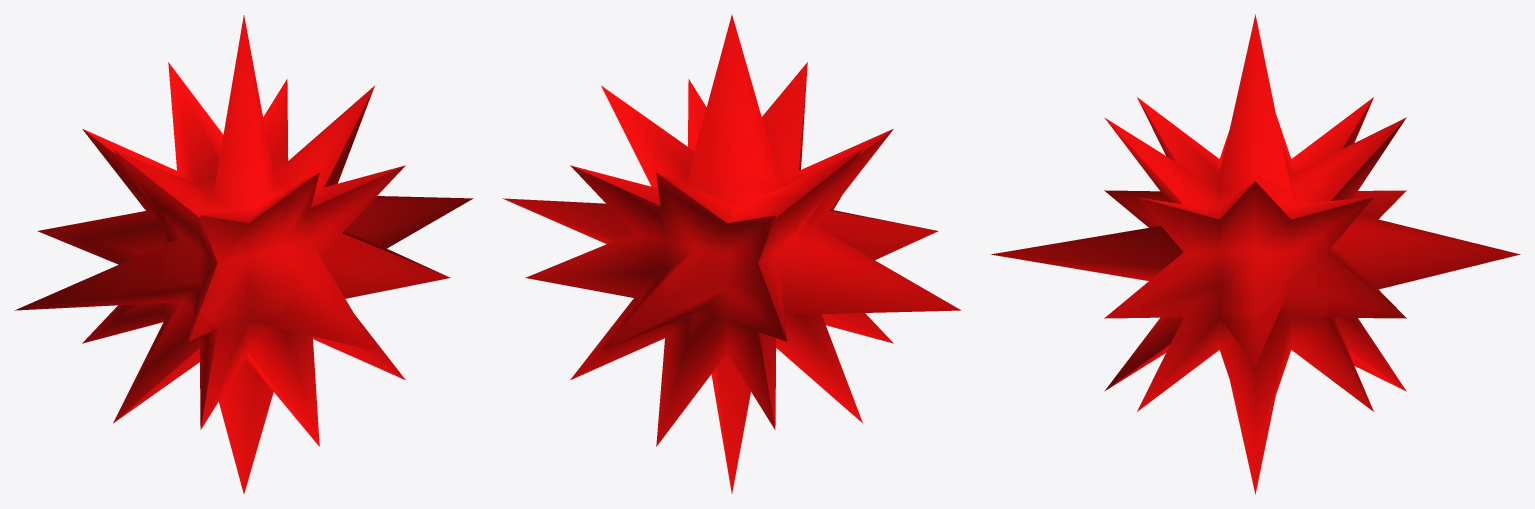
File: enemy_shot.fbx
The picture shows the model from 3 angles, left to right: view 1: azimuth 30°, elevation 25°; view 2: azimuth 150°, elevation 25°; view 3: azimuth 270°, elevation 25°; orthographic projection.
Parts seen in each view (by area): view 1: pCube1; view 2: pCube1; view 3: pCube1.
Part boxes in pixels (x1,y1,x2,y2): pCube1: (14,15,473,493); pCube1: (502,15,961,493); pCube1: (990,14,1520,494).
Size of the model in its own units: 36.99 by 36.99 by 36.99.
